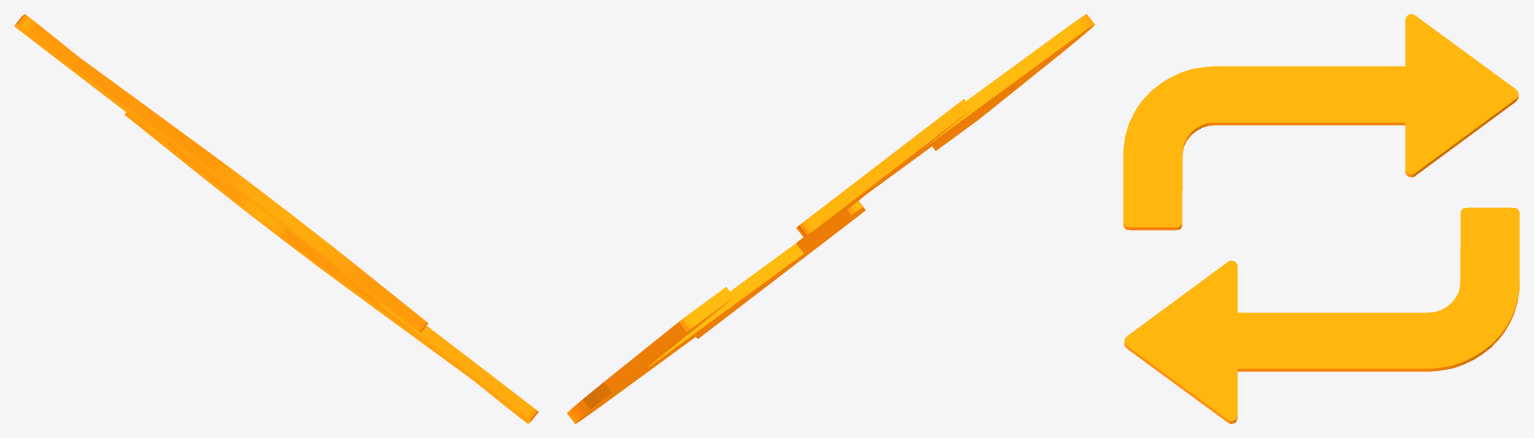
File: interactiveContent_selected.glb
3 renders of one model, left to right at view 1: azimuth 30°, elevation 25°; view 2: azimuth 150°, elevation 25°; view 3: azimuth 270°, elevation 25°, orthographic. The views are drawn at different scales.
Visible parts, largest first — view 1: int_selected; view 2: int_selected; view 3: int_selected.
Part boxes in pixels (x1,y1,x2,y2): int_selected: (14, 14, 538, 423); int_selected: (567, 14, 1094, 423); int_selected: (1123, 14, 1519, 423).
Size of the model in its own units: 0.0303 by 0.0303 by 0.0384.
